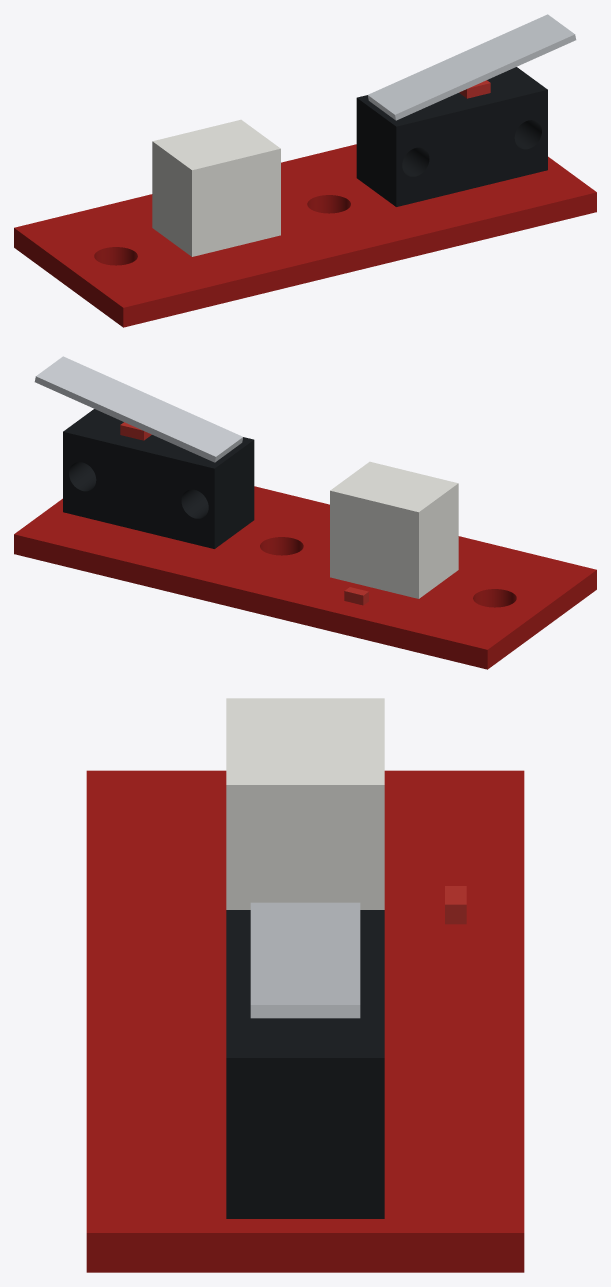
File: fc_mecanico.glb
3 renders of one model, top to bottom at view 1: azimuth 30°, elevation 25°; view 2: azimuth 150°, elevation 25°; view 3: azimuth 270°, elevation 25°, orthographic. The views are drawn at different scales.
Visible parts, largest first — view 1: fc_mecanico; view 2: fc_mecanico; view 3: fc_mecanico.
Part boxes in pixels (x1,y1,x2,y2): fc_mecanico: (14,14,596,327); fc_mecanico: (14,356,596,669); fc_mecanico: (86,698,524,1272).
Bounding box in the file's own units: 41.72 × 11.55 × 16.
